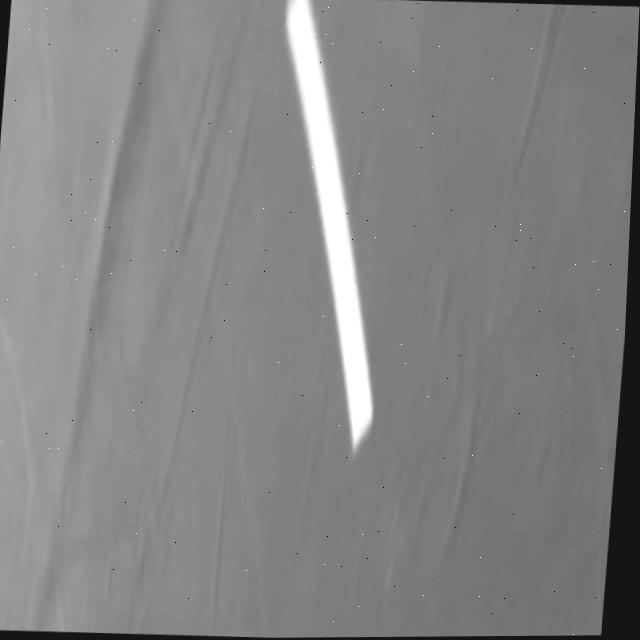center: (285, 0, 372, 451)
